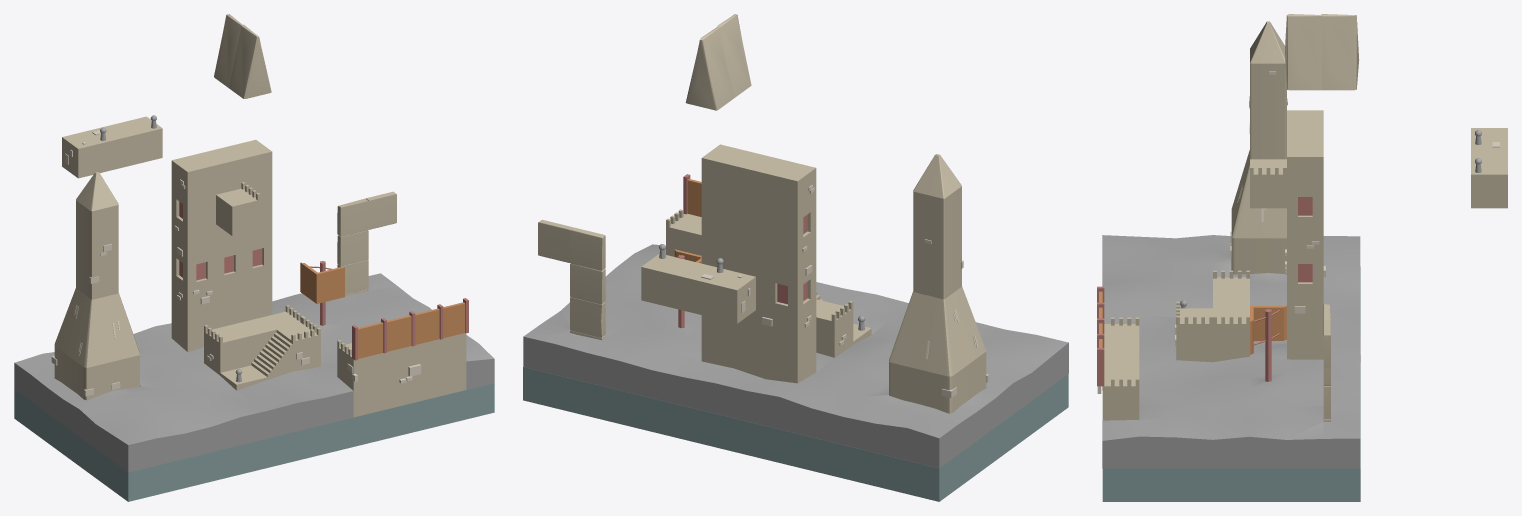
The model's file is teaser_pier_env.fbx.
The picture shows the model from 3 angles, left to right: view 1: azimuth 30°, elevation 25°; view 2: azimuth 150°, elevation 25°; view 3: azimuth 270°, elevation 25°; orthographic projection. The views are drawn at different scales.
Parts seen in each view (by area): view 1: platforms, water1, under_water, roofs, fence_wood, platform6, bricks1, wood_frames, fence_bites, red_window2; view 2: platforms, water1, under_water, roofs, bricks1; view 3: water1, platforms, under_water, roofs, wood_frames, platform6, fence_bites, red_window2, bricks1.
Boxes of the visible parts, <box> form: platforms: <box>54,116,466,417</box>; water1: <box>14,273,494,472</box>; under_water: <box>14,383,494,501</box>; roofs: <box>76,14,271,211</box>; fence_wood: <box>358,302,465,358</box>; platform6: <box>300,262,344,303</box>; bricks1: <box>51,130,421,396</box>; wood_frames: <box>310,261,468,360</box>; fence_bites: <box>204,182,351,355</box>; red_window2: <box>179,201,262,280</box>; platforms: <box>538,144,986,413</box>; water1: <box>523,244,1068,468</box>; under_water: <box>523,367,1068,501</box>; roofs: <box>685,14,961,198</box>; bricks1: <box>701,185,989,397</box>; water1: <box>1102,235,1360,468</box>; platforms: <box>1102,63,1507,421</box>; under_water: <box>1102,266,1360,501</box>; roofs: <box>1250,14,1359,90</box>; wood_frames: <box>1097,286,1280,386</box>; platform6: <box>1250,306,1286,354</box>; fence_bites: <box>1111,166,1286,386</box>; red_window2: <box>1298,197,1312,282</box>; bricks1: <box>1097,71,1499,393</box>.
Size of the model in its own units: 130 by 120 by 112.
